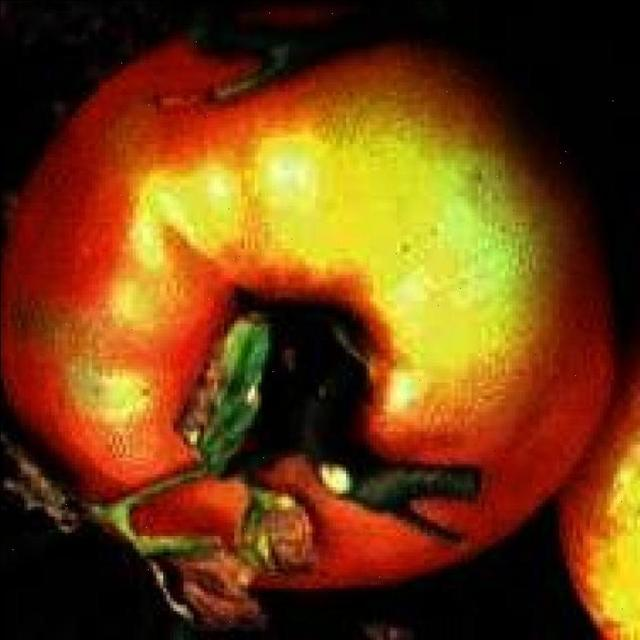Sunscald Fruit: (27, 154, 413, 350)
